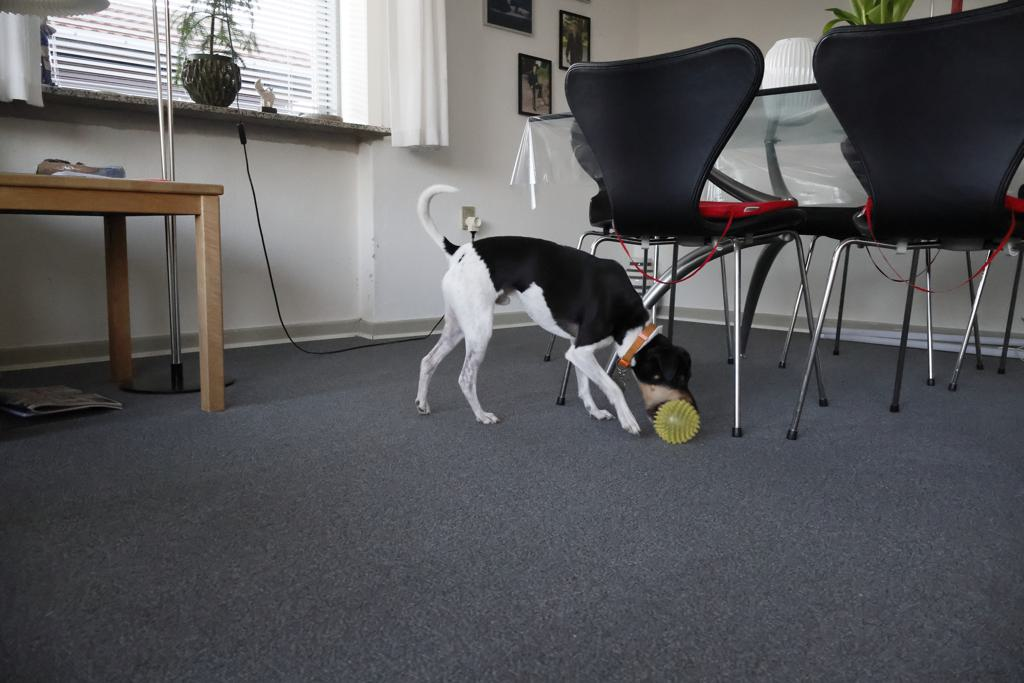Dog: (392, 173, 717, 448)
